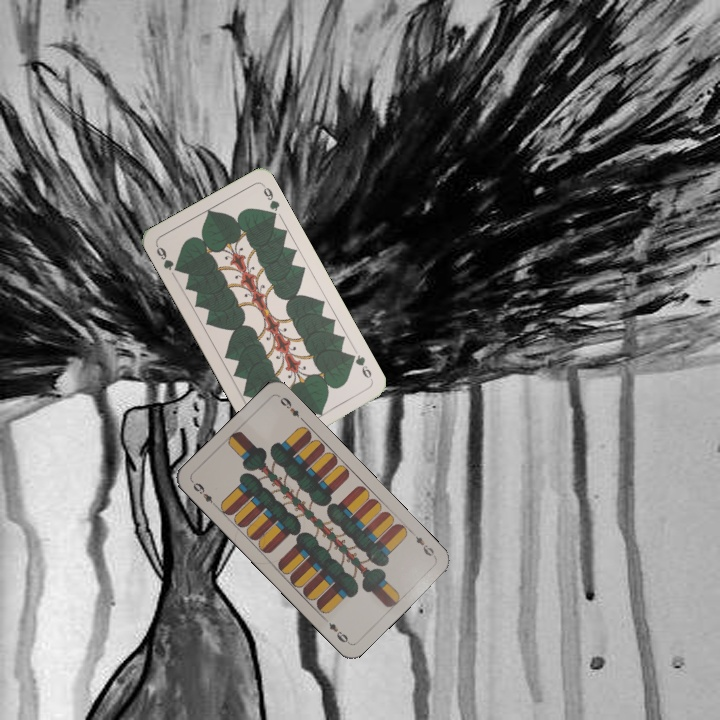E9: (188, 477, 220, 510), (407, 528, 439, 561)
G9: (152, 241, 183, 275), (345, 350, 376, 383)
